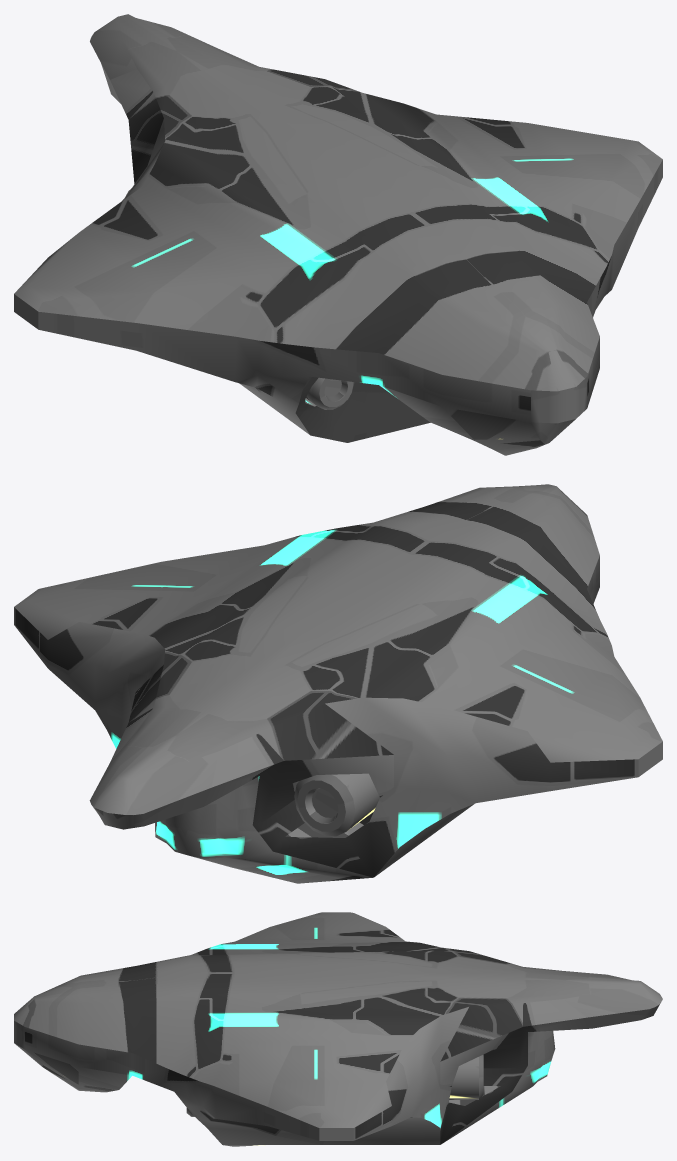
The model's file is Danube.fbx.
3 views of the same model, one above another, from view 1: azimuth 30°, elevation 25°; view 2: azimuth 150°, elevation 25°; view 3: azimuth 270°, elevation 25° (orthographic). The views are drawn at different scales.
Visible parts, largest first — view 1: Danube_LOD0; view 2: Danube_LOD0; view 3: Danube_LOD0.
Boxes of the visible parts, x1,y1,x2,y2 form: Danube_LOD0: (14,14,662,455); Danube_LOD0: (14,484,662,883); Danube_LOD0: (14,912,662,1146).
Size of what is drawn, in the model's own units: 6229 by 2063 by 7938.
